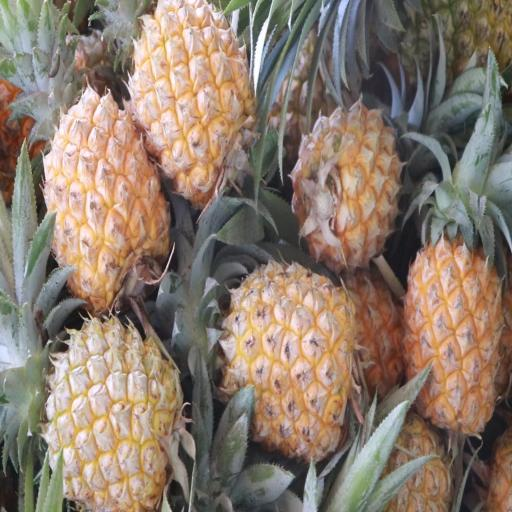Pineapple - v8 v1: (46, 92, 172, 304), (224, 262, 355, 458), (46, 320, 180, 511), (124, 0, 256, 191), (405, 230, 503, 430), (292, 101, 399, 265)
